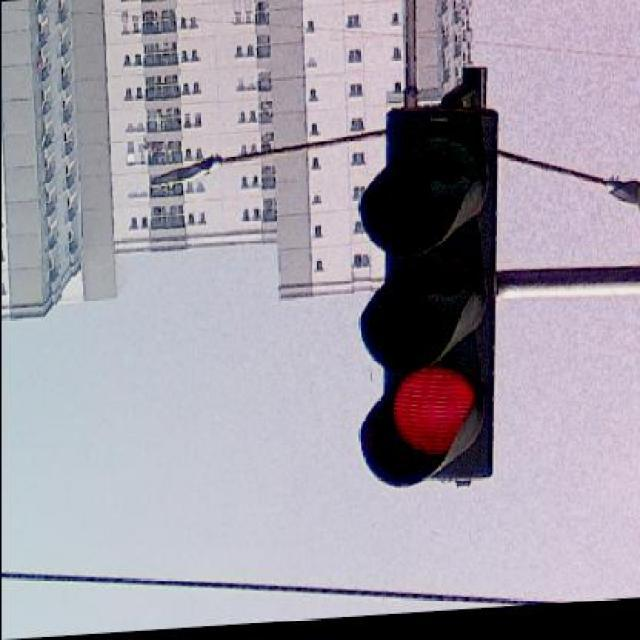traffic light: (358, 73, 499, 487)
